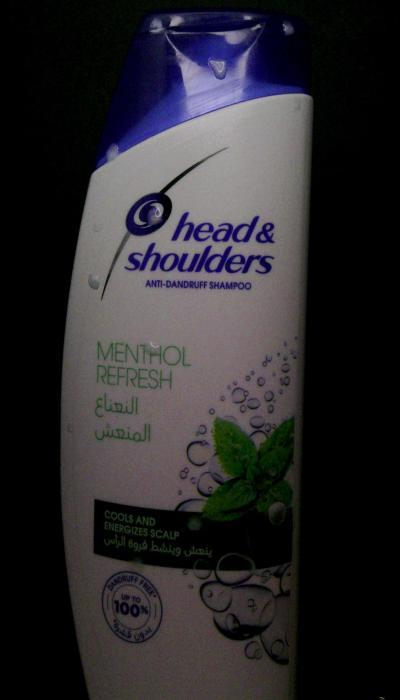pob_marg: (200, 52, 233, 86), (144, 15, 168, 42), (82, 270, 106, 296), (163, 11, 190, 34), (140, 336, 163, 362), (143, 203, 166, 229), (102, 140, 123, 168), (86, 214, 108, 240), (284, 95, 306, 120), (276, 18, 298, 41), (184, 514, 204, 536), (126, 556, 146, 576), (64, 417, 80, 436), (238, 8, 254, 25), (246, 22, 264, 35)
